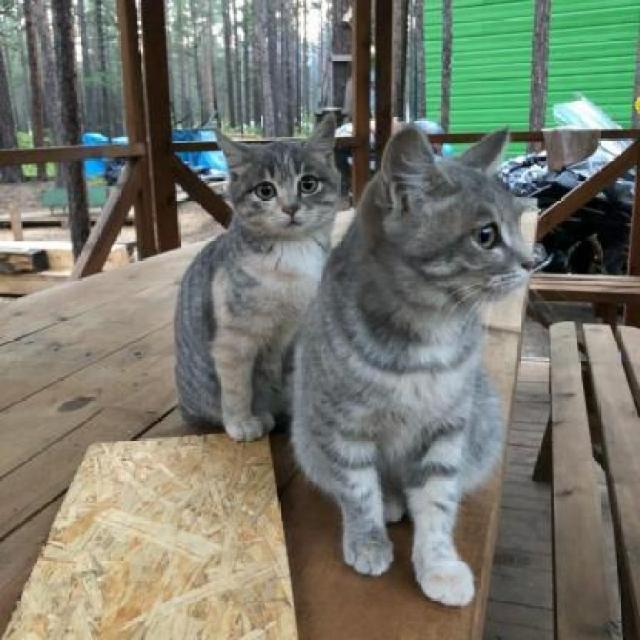cat: (302, 105, 540, 582), (139, 117, 353, 455)
